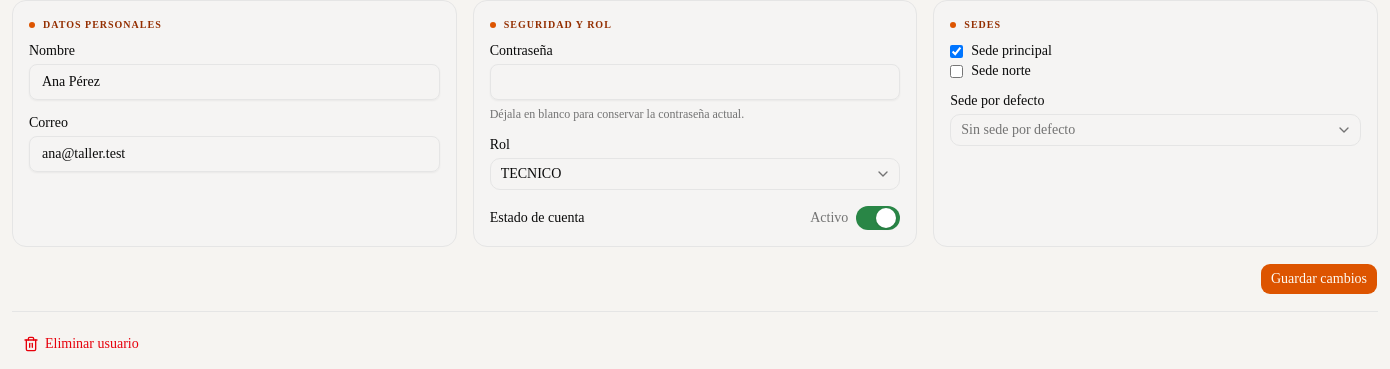
EditarUsuarioForm › narrows sede-por-defecto options to the checked sedes for a non-ADMIN role
The image size is (1390, 369).
Click the dropdown labelled "sede por defecto".
click(1018, 130)  # box [950,114,1361,146]
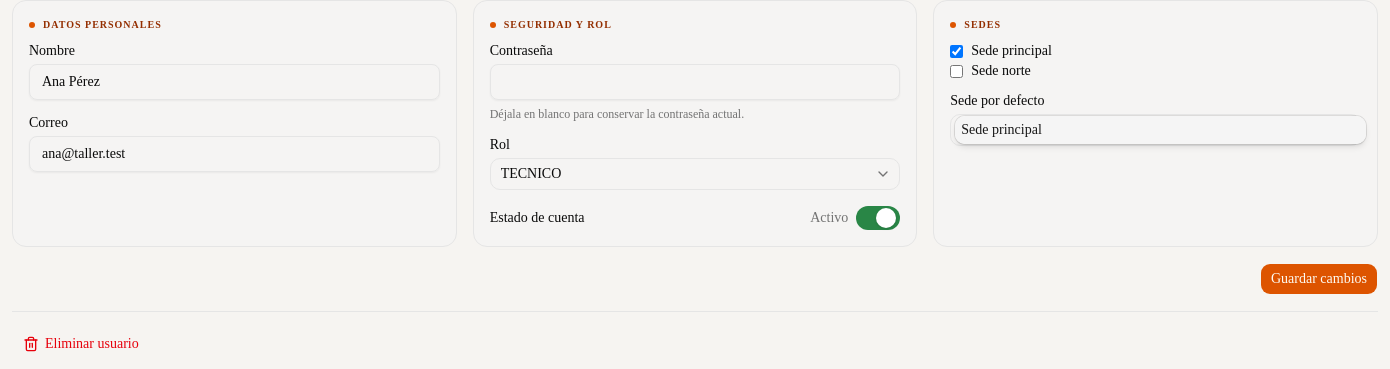
Expected: the option "Sede principal" is shown, [955,116,1366,144]
